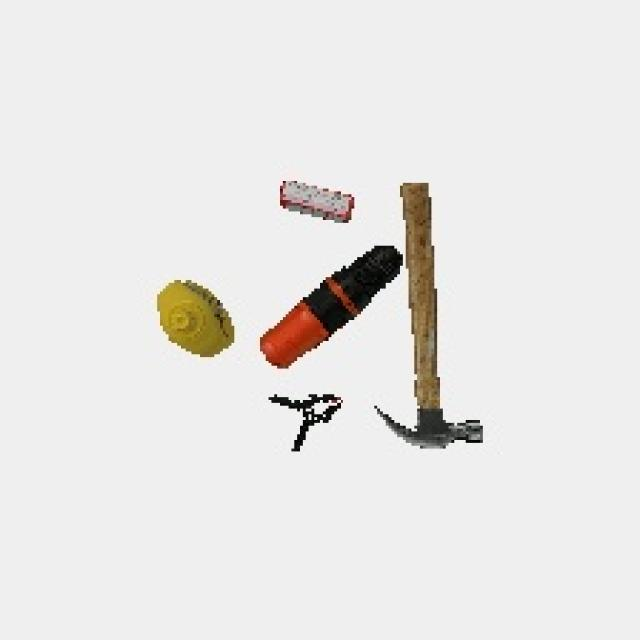GelatinBox: (276, 172, 362, 232)
MediumClamp: (263, 388, 351, 458)
MustardBottle: (148, 274, 242, 364)
